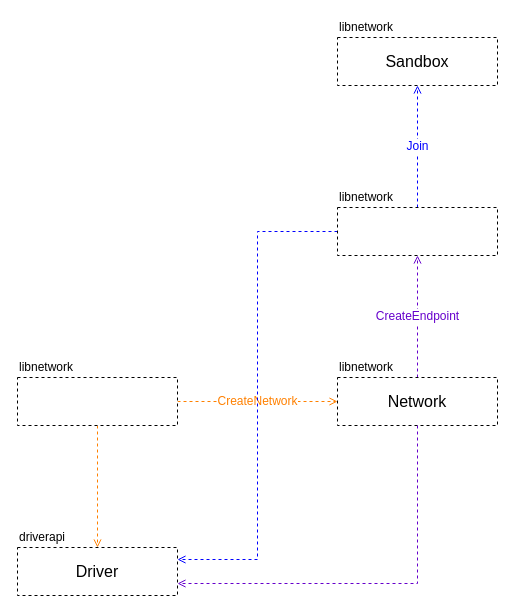
The diagram is 515 pixels wide and 613 high, and some of its shapes have lost their labels. Each missing label, with the centre of its shape:
"Endpoint" goes at [417,231].
"NetworkController" goes at [97,401].
